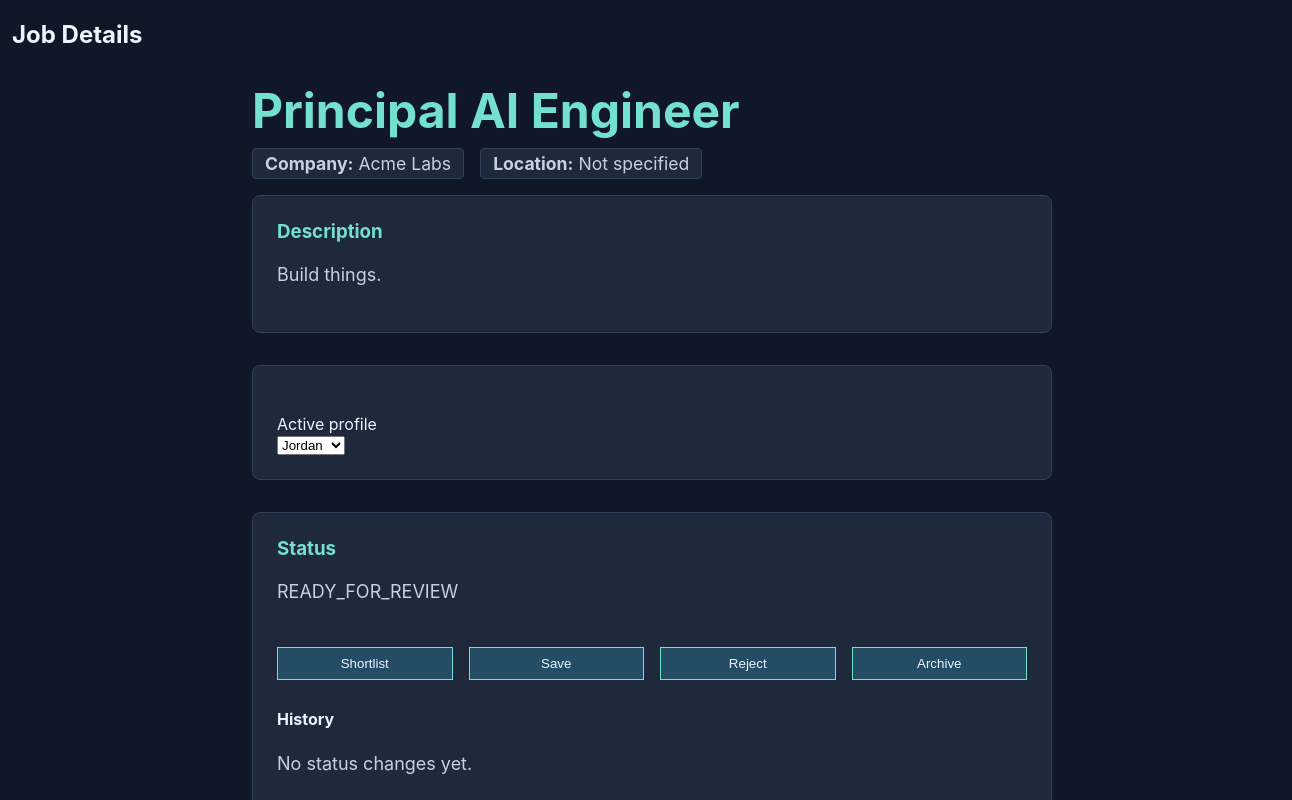
Test case: JobDetail › shows the active profile's status and applies a workflow action
Expected: the heading "Principal AI Engineer" is shown, [252,81,740,140]
Expected: the text with test id "workflow-status" reads "READY_FOR_REVIEW", [277,581,458,602]
Click the button "Shortlist" at point(365, 663), box [277,647,452,680]
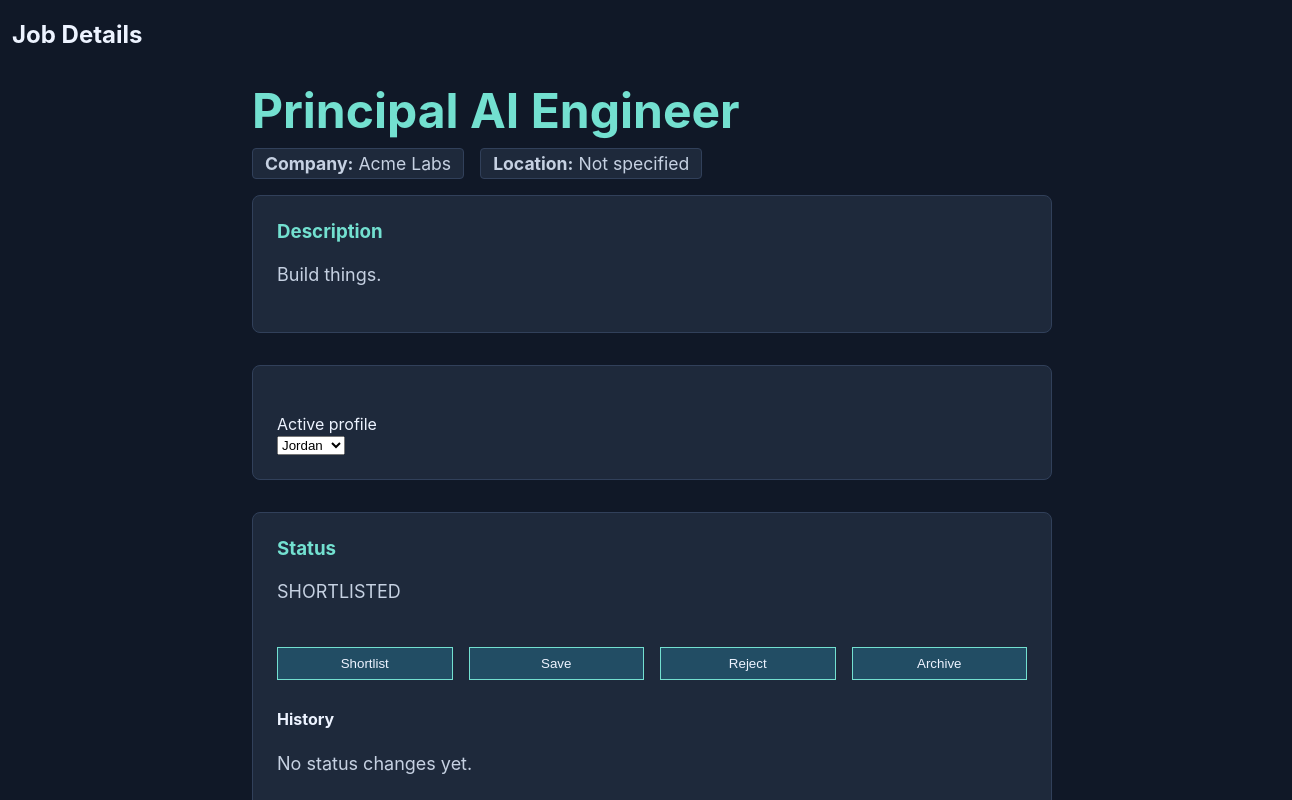
Expected: the text with test id "workflow-status" reads "SHORTLISTED", [277,581,401,602]
